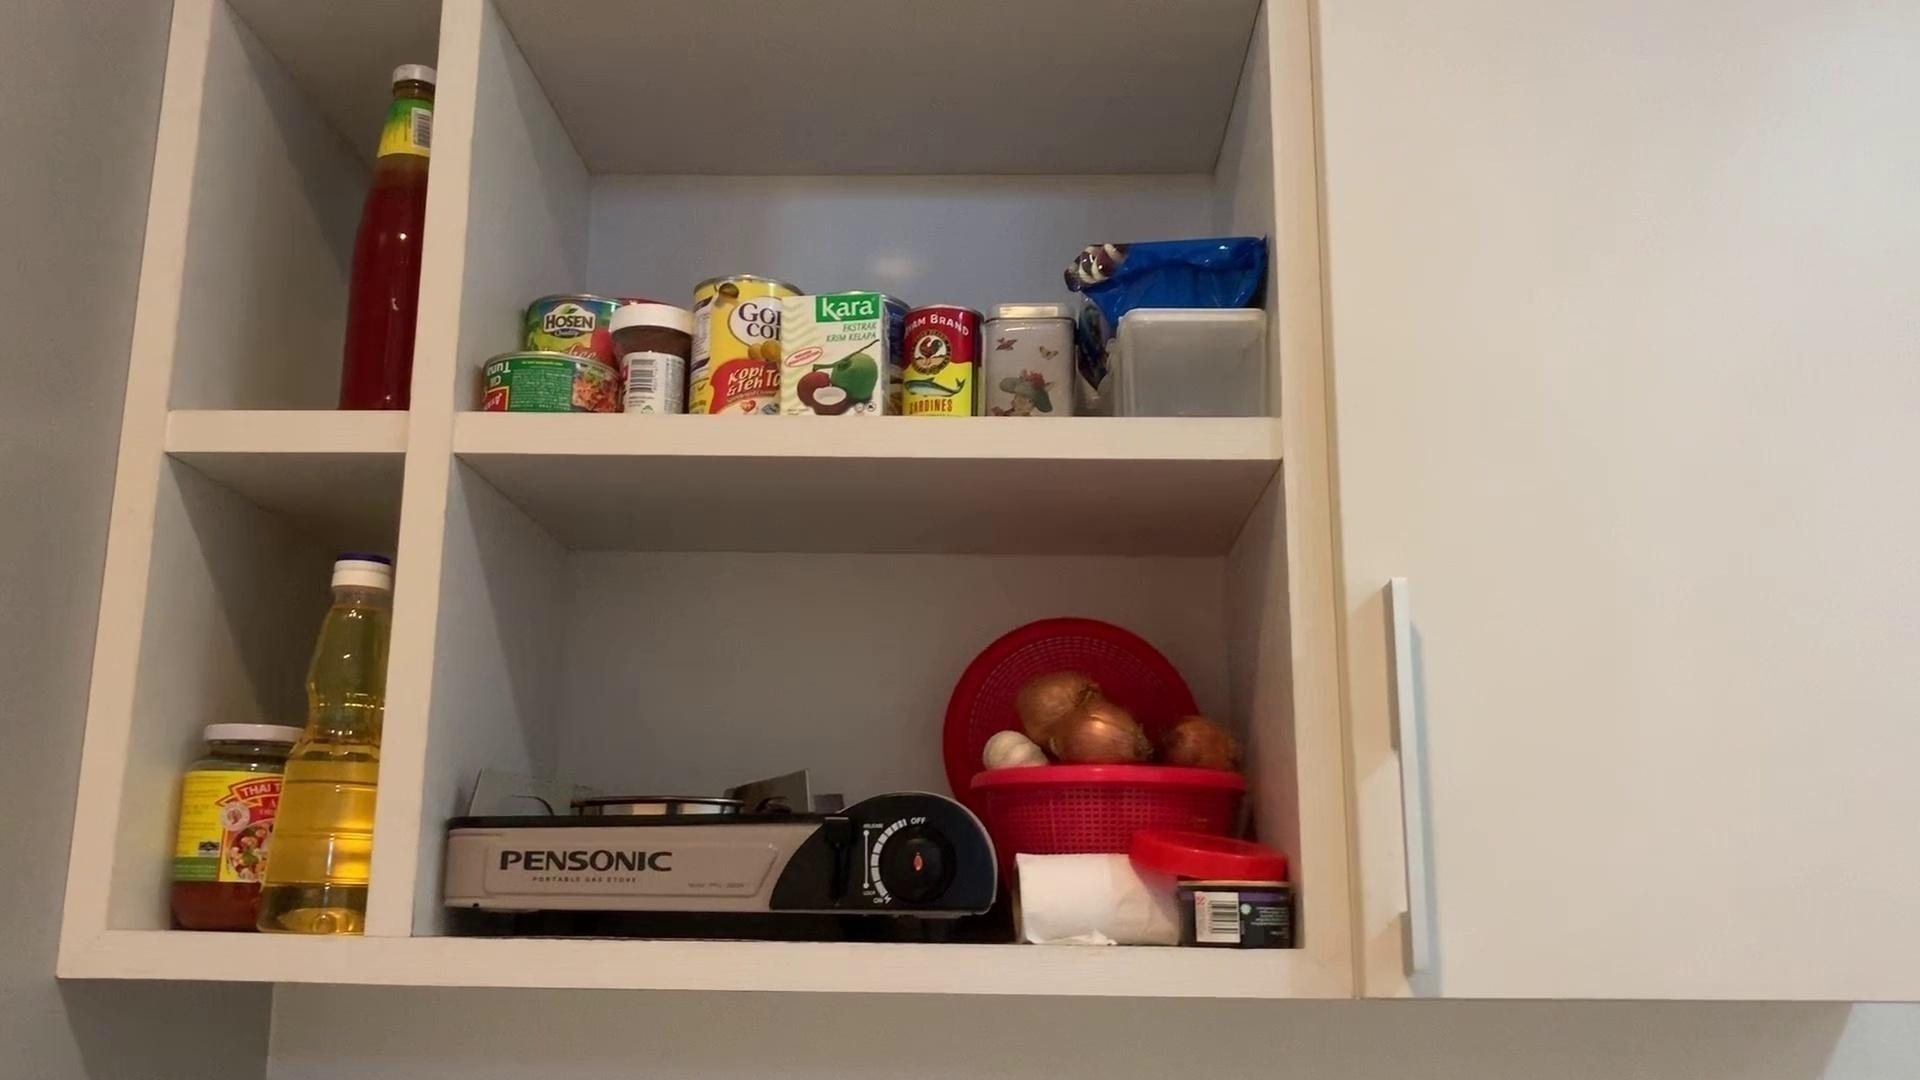cabinet_door: (1353, 0, 1920, 993)
handle: (1373, 556, 1448, 989)
